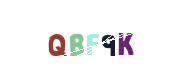9: (70, 0, 150, 80)
B: (43, 0, 123, 80)
F: (52, 0, 132, 80)
K: (84, 0, 164, 80)
Q: (17, 0, 97, 80)
